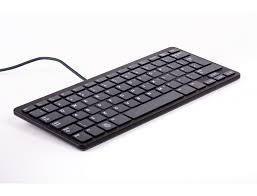keyboard: (9, 30, 246, 166)
